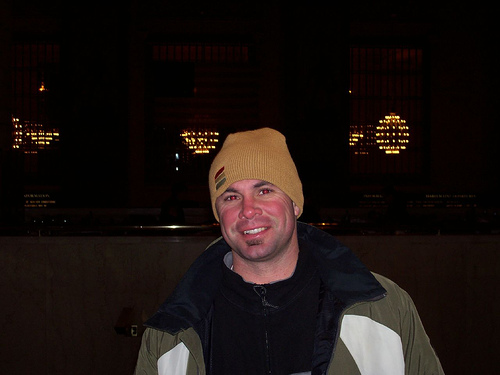without_mask: (211, 169, 303, 264)
